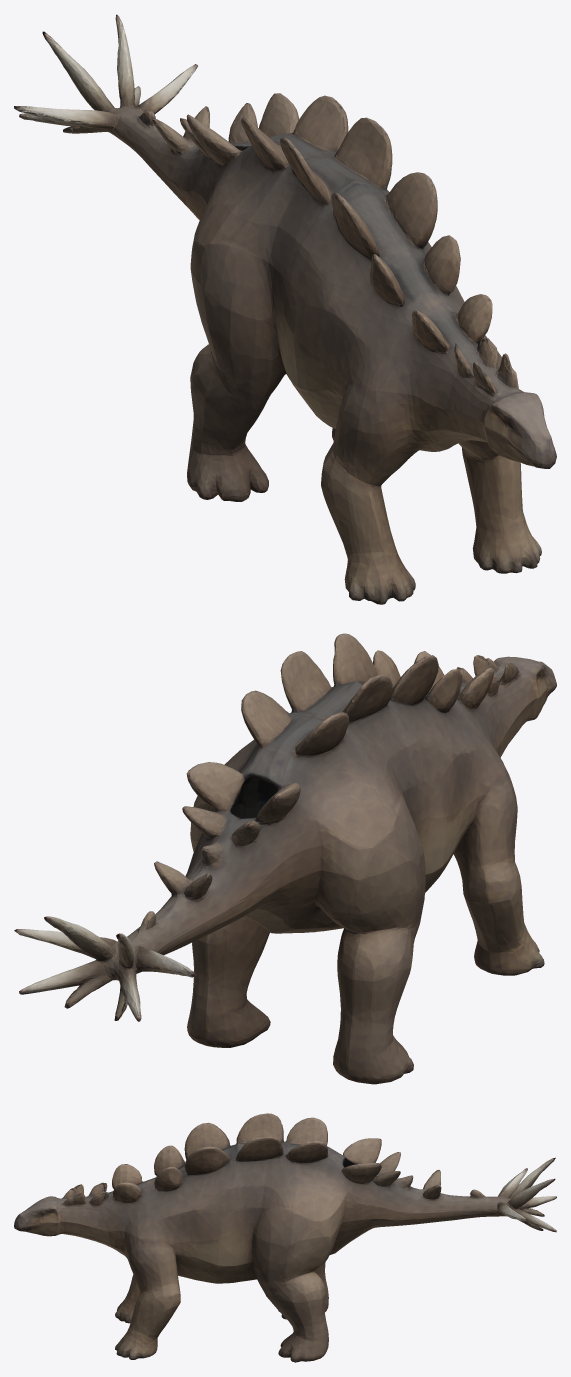
The picture shows the model from 3 angles, top to bottom: view 1: azimuth 30°, elevation 25°; view 2: azimuth 150°, elevation 25°; view 3: azimuth 270°, elevation 25°; orthographic projection. The views are drawn at different scales.
Parts seen in each view (by area): view 1: world; view 2: world; view 3: world.
Boxes of the visible parts, x1=… form: world: x1=14, y1=14, x2=556, y2=604; world: x1=14, y1=633, x2=556, y2=1084; world: x1=14, y1=1113, x2=556, y2=1362.
Size of the model in its own units: 1.96 by 3.19 by 7.5.
Materials: 1 (1 with a texture image).
